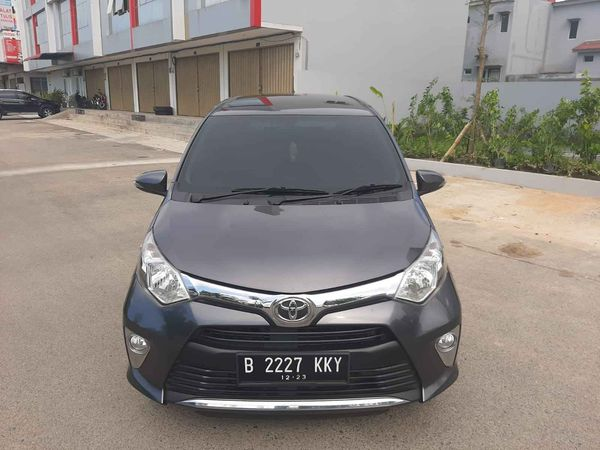plate: (233, 350, 353, 387)
